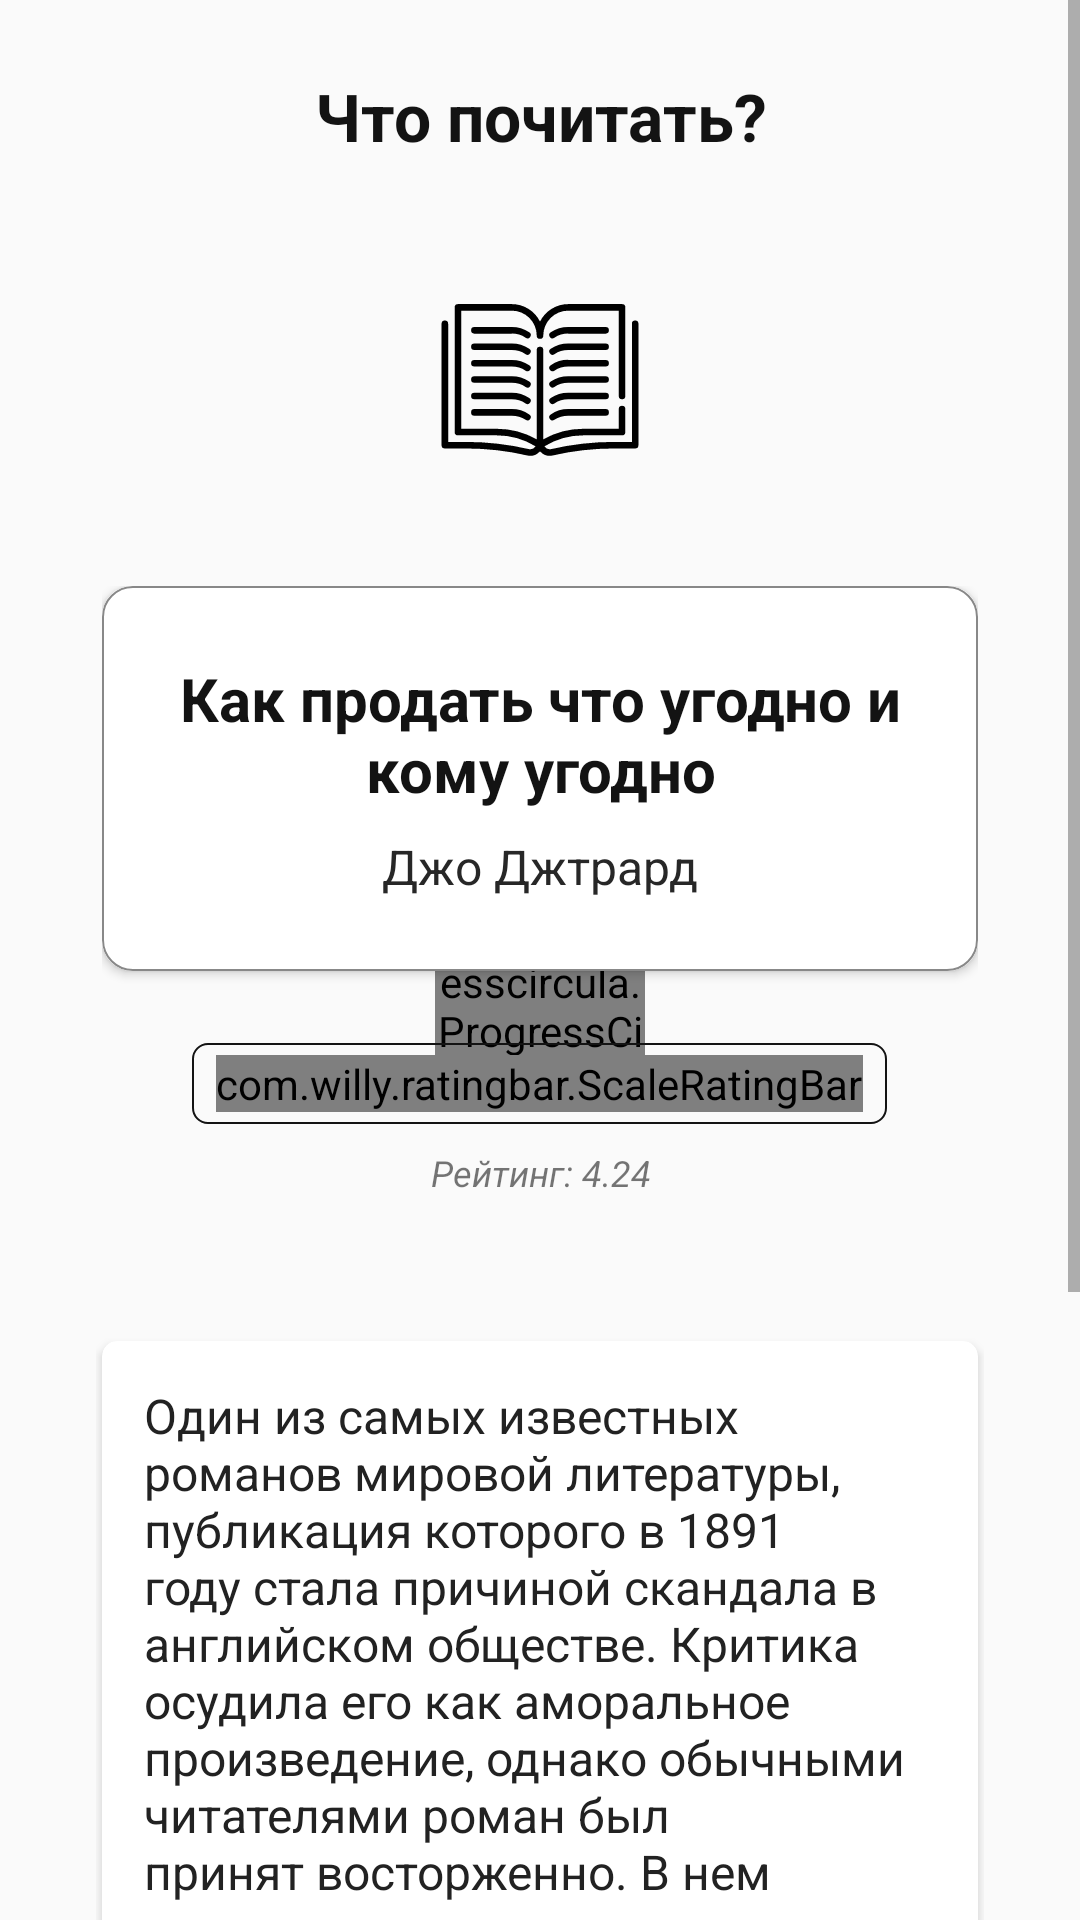

Icon click points for this 1080x1920 phone screenshot, format (x,y):
book: (540,380)
